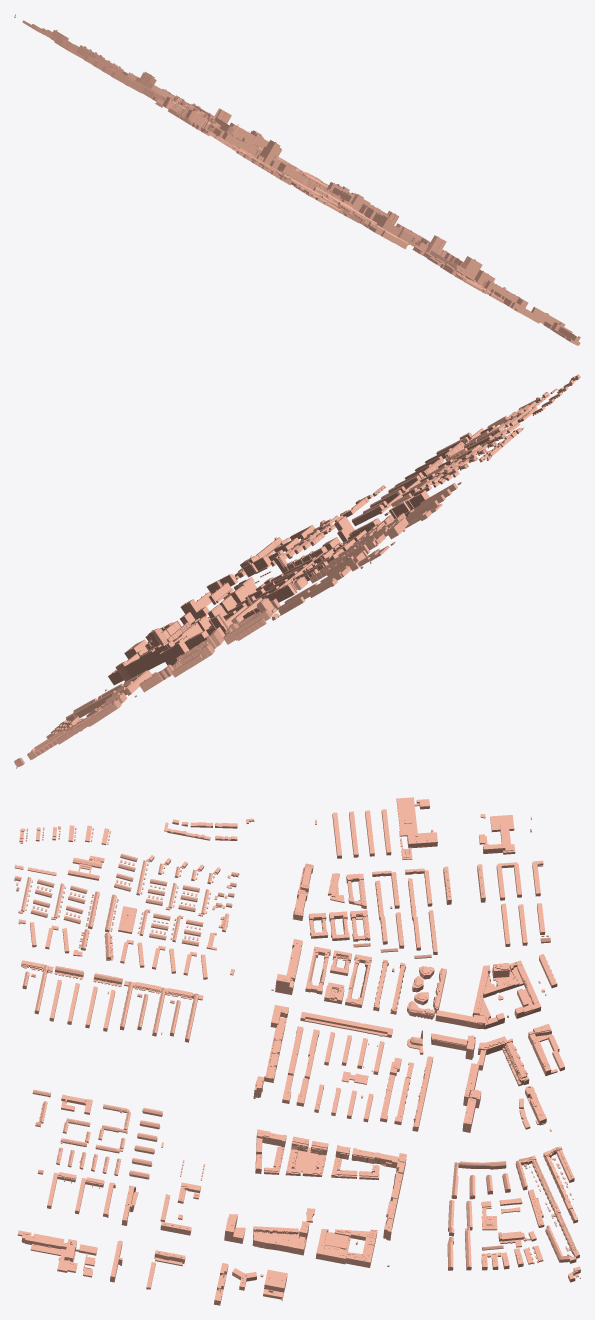
3 views of the same model, one above another, from view 1: azimuth 30°, elevation 25°; view 2: azimuth 150°, elevation 25°; view 3: azimuth 270°, elevation 25° (orthographic). The views are drawn at different scales.
Size of the model in its own units: 3.46e+07 by 2.55e+07 by 4.18e+07.
